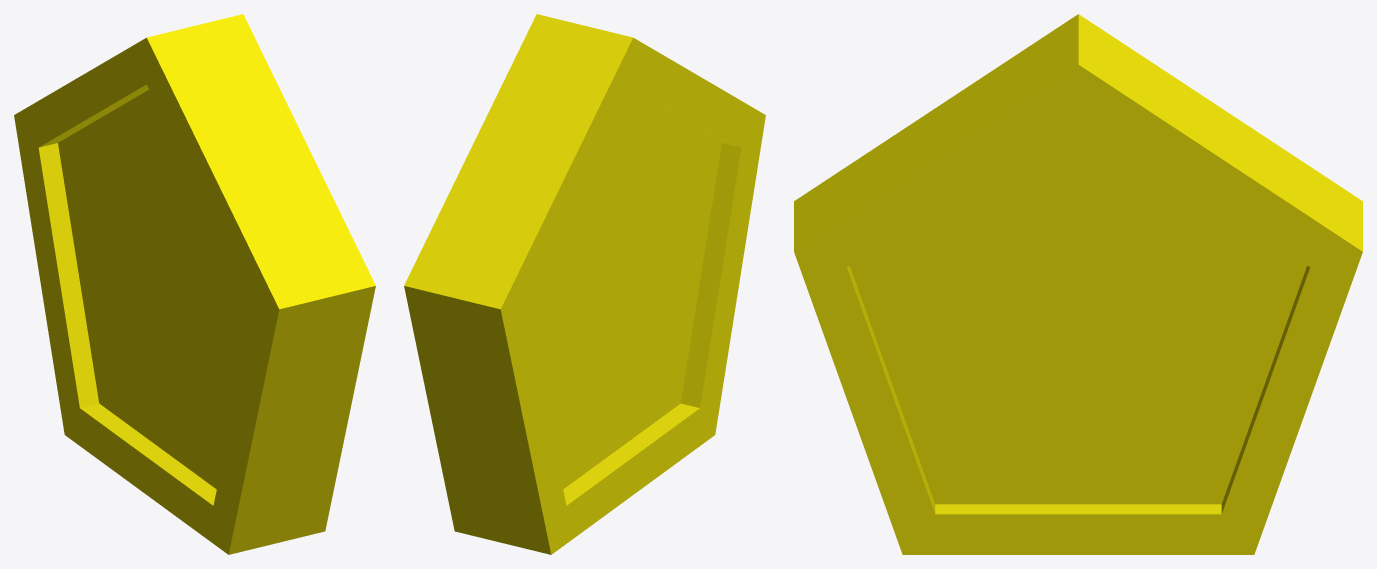
Rendered from Coin.fbx.
3 renders of one model, left to right at view 1: azimuth 30°, elevation 25°; view 2: azimuth 150°, elevation 25°; view 3: azimuth 270°, elevation 25°, orthographic. The views are drawn at different scales.
Visible parts, largest first — view 1: Gold; view 2: Gold; view 3: Gold.
Part boxes in pixels (x1,y1,x2,y2): Gold: (14, 14, 375, 554); Gold: (404, 14, 765, 554); Gold: (794, 14, 1362, 554).
Size of the model in its own units: 6 by 27.14 by 28.53.
